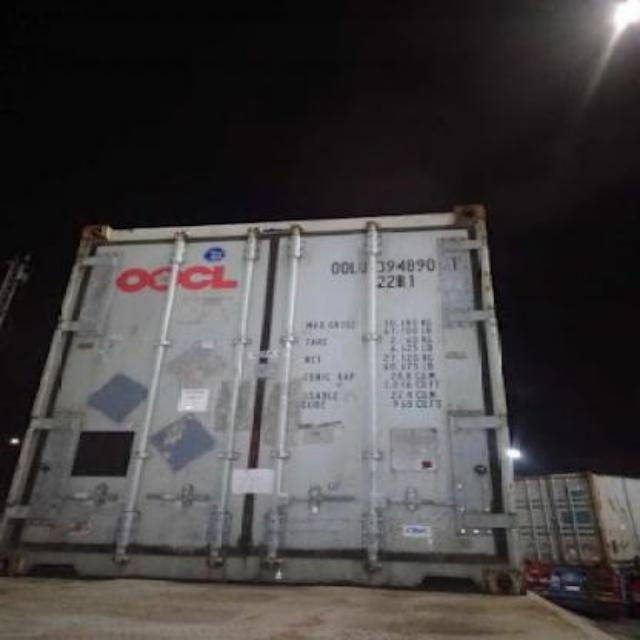0: (426, 250, 436, 278)
1: (448, 247, 462, 273)
3: (374, 257, 384, 273)
4: (394, 252, 406, 274)
8: (406, 252, 416, 276)
9: (414, 252, 426, 278), (384, 256, 394, 278)
L: (348, 258, 358, 278)
O: (326, 255, 339, 281), (340, 256, 350, 282)
U: (358, 255, 370, 281)
